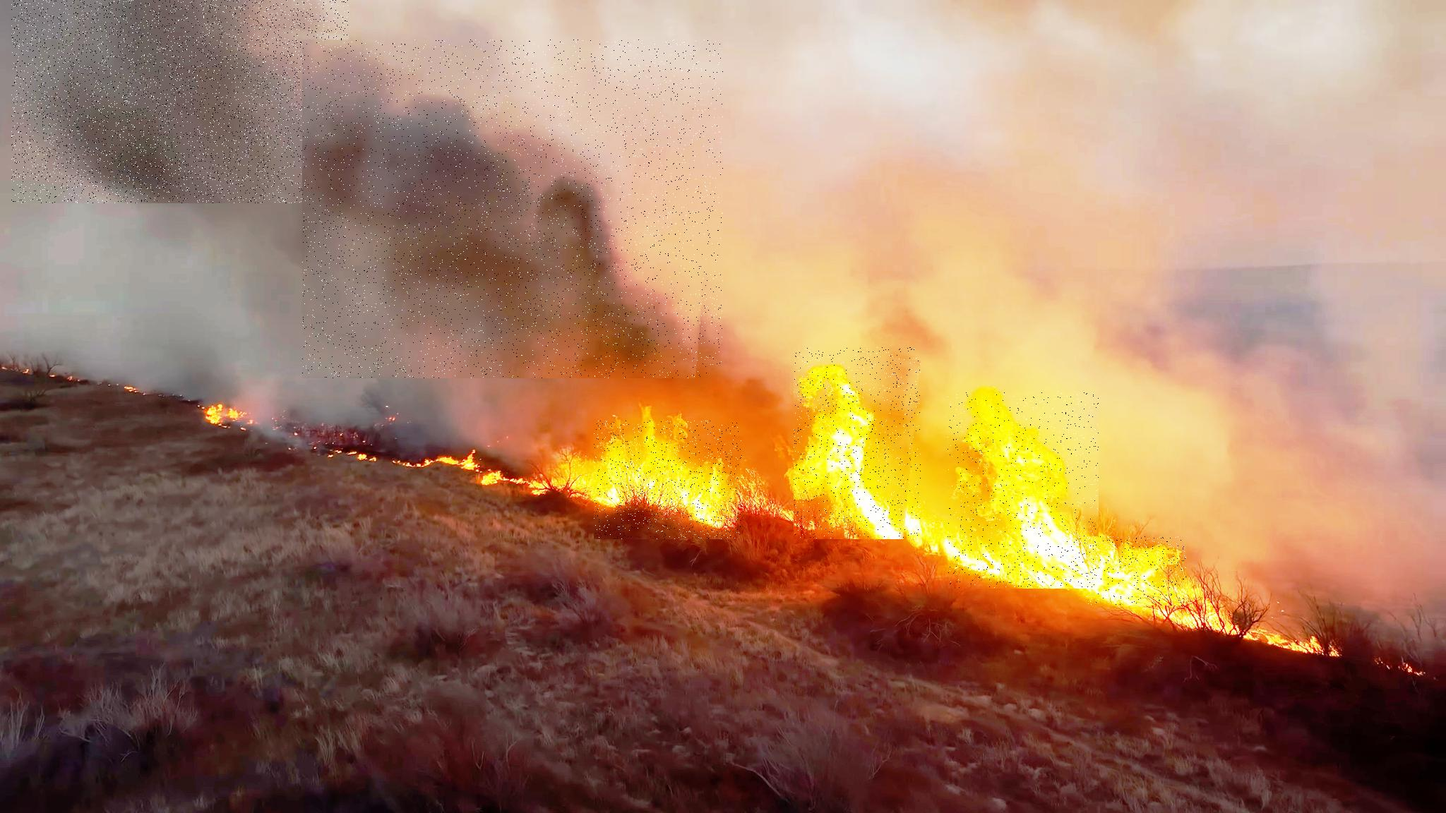fire: (948, 392, 1099, 589), (794, 347, 921, 539), (594, 421, 742, 539), (1086, 536, 1186, 605)
smoke: (302, 40, 723, 378), (11, 0, 349, 203)
